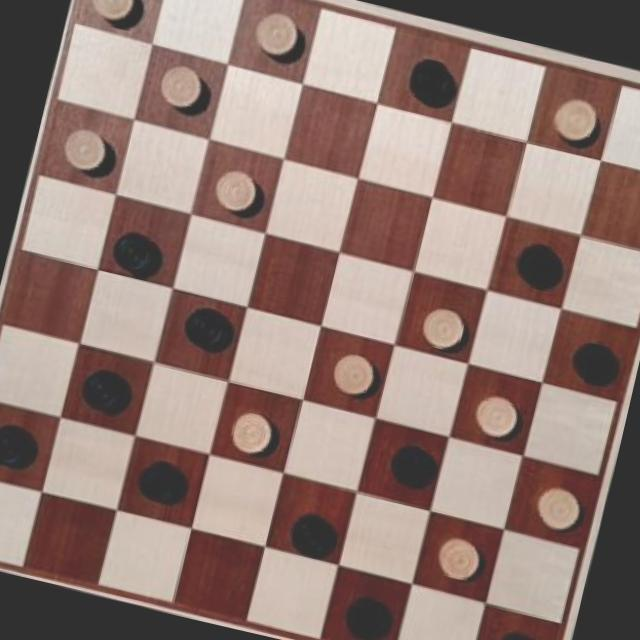BOARD: (0, 0, 640, 640)
black: (506, 226, 568, 294), (279, 497, 343, 562), (399, 45, 462, 108), (76, 358, 138, 422), (379, 434, 442, 495), (133, 453, 193, 514), (174, 300, 237, 358), (335, 585, 398, 640), (568, 334, 627, 392), (104, 218, 160, 276), (0, 414, 38, 475), (488, 625, 554, 640)
white: (316, 336, 384, 406), (243, 2, 310, 68), (423, 524, 488, 590), (463, 383, 527, 444), (544, 88, 606, 148), (223, 402, 280, 464), (210, 158, 265, 218), (152, 58, 210, 114), (528, 478, 584, 534), (56, 119, 112, 173), (416, 296, 468, 354), (82, 0, 144, 28)
